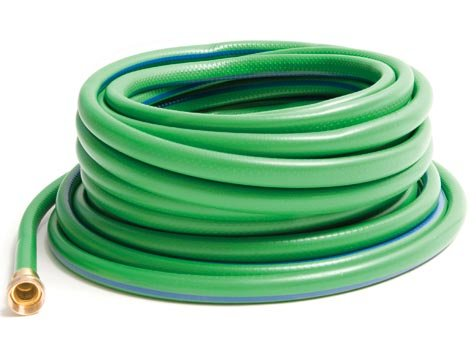Nonrec_Tangler: (1, 18, 455, 319)
